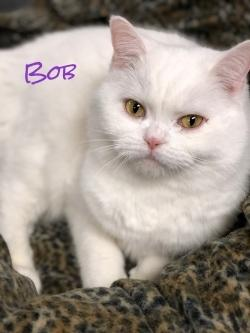persian: (92, 10, 250, 186)
